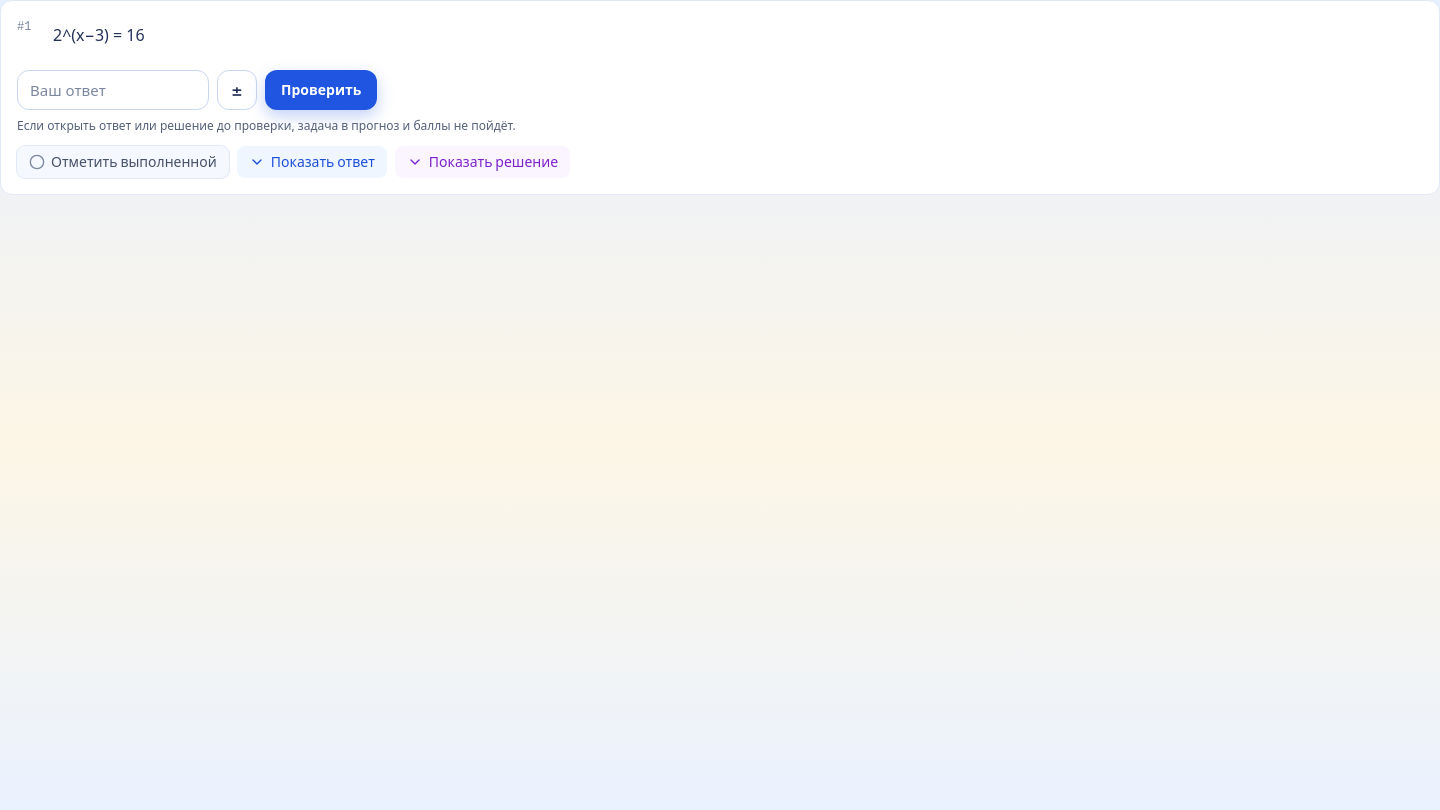
it: TaskDisplayCard — проверка ответа (§256) › неверно: «Пока неверно…», кнопка «Проверить ещё раз», баллов и тоста нет
Type "8" into the field with test id "task-answer-input" at (113, 90), box [17, 70, 209, 110]
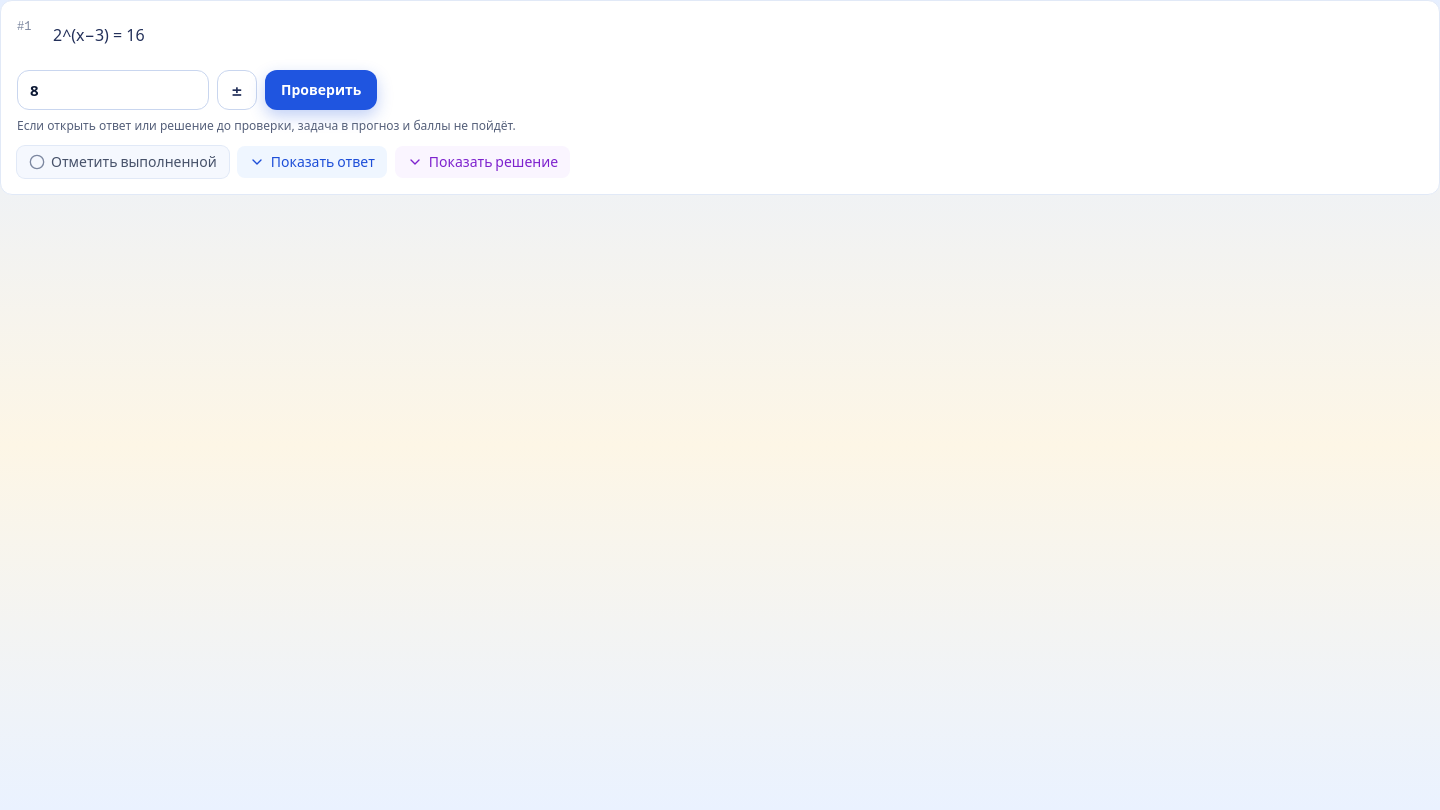
Click the button with test id "task-answer-submit" at (321, 90), box [265, 70, 377, 110]
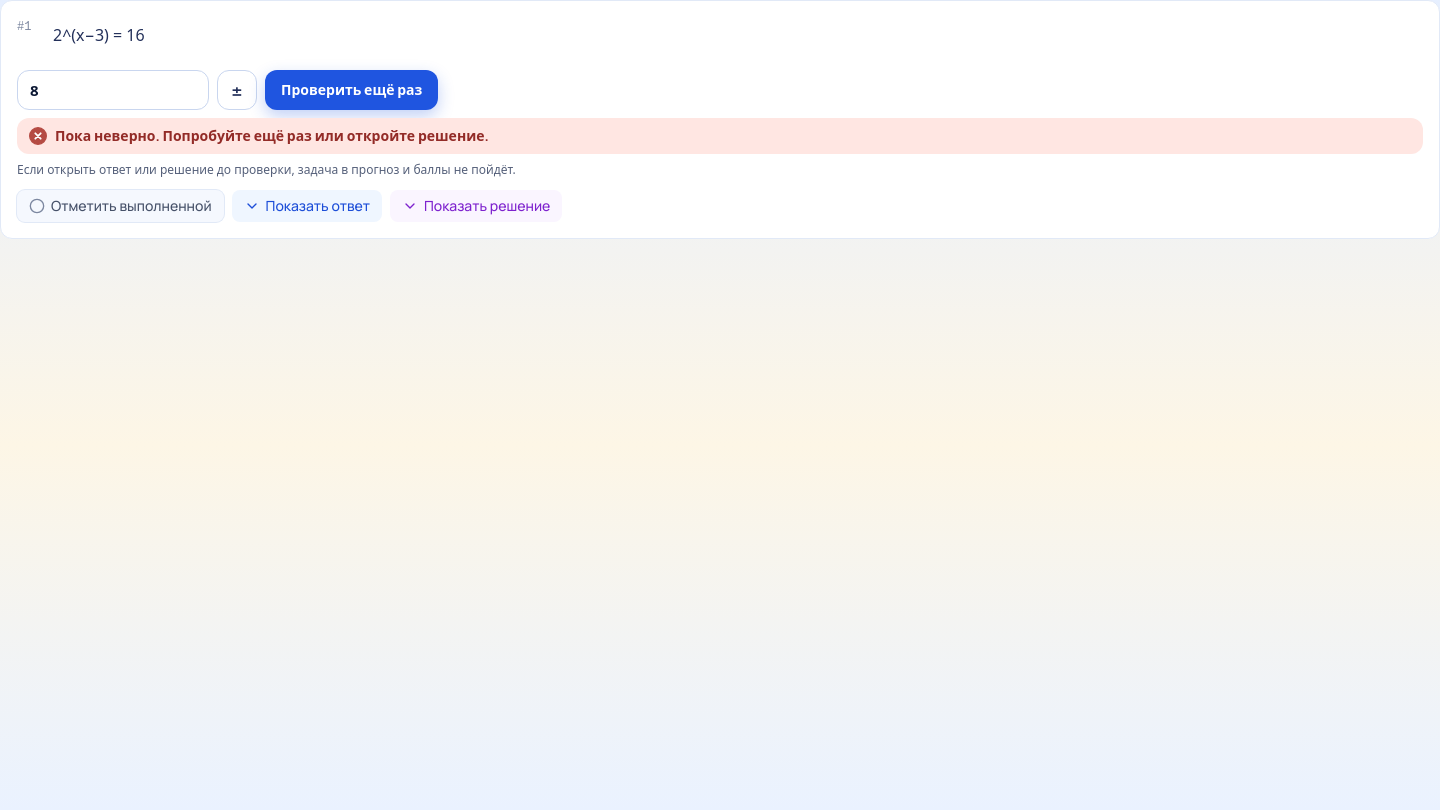
Check: the message with test id "task-answer-result" reads "Пока неверно. Попробуйте ещё раз или откройте решение.", box [55, 126, 489, 145]
Check: the button with test id "task-answer-submit" reads "Проверить ещё раз", box [265, 70, 438, 110]
